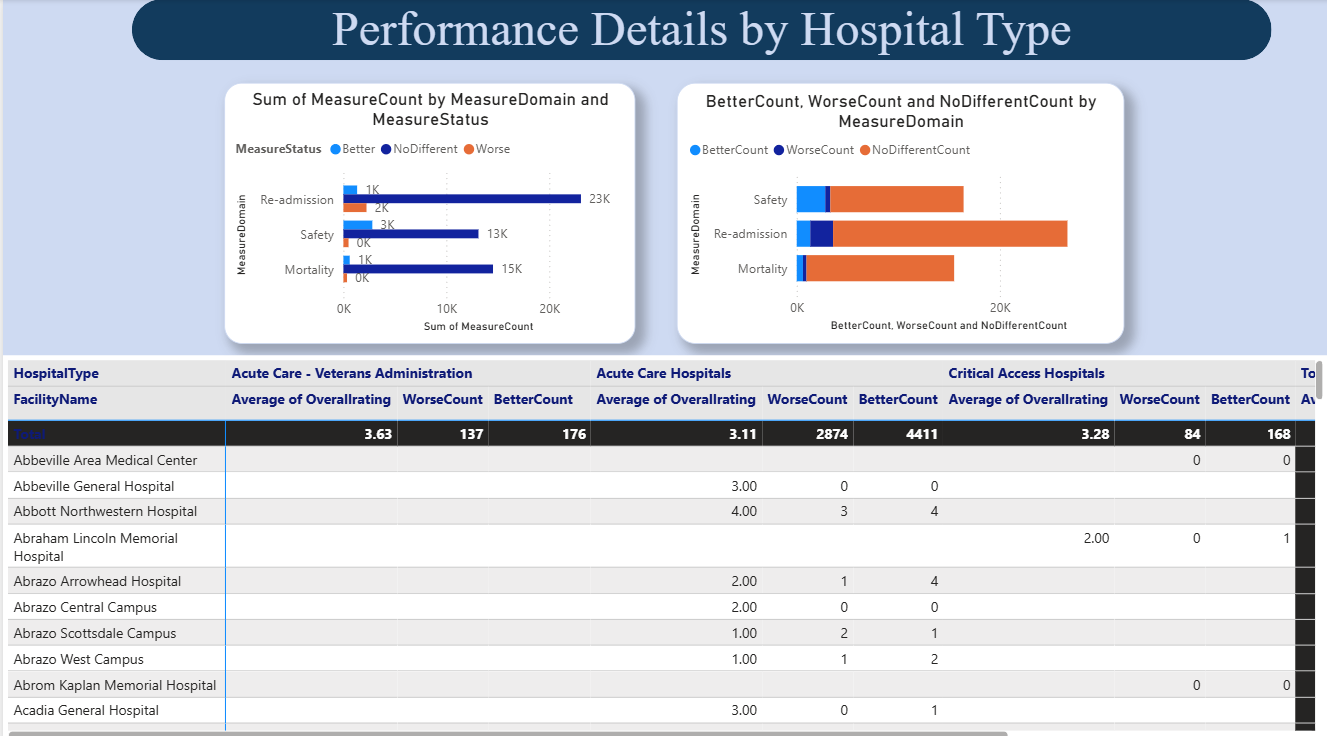

The page's visual inventory and layout, read from the dashboard file:
{"tool":"powerbi","page":{"name":"Performance Details","canvas":[1280,720],"ordinal":3},"visuals":[{"type":"clusteredBarChart","fields":{"Category":["FactPerformance.MeasureDomain"],"Y":["Sum(FactPerformance.MeasureCount)"],"Series":["FactPerformance.MeasureStatus"]},"box":[213.5,80.8,396.9,252.1],"z":0},{"type":"barChart","fields":{"Category":["FactPerformance.MeasureDomain"],"Y":["FactPerformance.BetterCount","FactPerformance.WorseCount","FactPerformance.NoDifferentCount"]},"box":[650.3,80.8,431.9,252.1],"z":1000},{"type":"pivotTable","fields":{"Rows":["Hospital.FacilityName"],"Columns":["Dim_HospitalType.HospitalType"],"Values":["Avg(Hospital.Overallrating)","FactPerformance.WorseCount","FactPerformance.BetterCount"]},"box":[0,343.8,1280,376.4],"z":2000},{"type":"shape","box":[124.3,0,1100.3,59.1],"z":3000}]}

Visuals, with their boxes in screenshot pixels (x1, y1, x2, y2), scaled from the page's 1280x720 canvas onto the 1327x736 screenshot:
clusteredBarChart - FactPerformance.MeasureDomain x Sum(FactPerformance.MeasureCount): {"x1": 221, "y1": 83, "x2": 633, "y2": 340}
barChart - FactPerformance.MeasureDomain x FactPerformance.BetterCount: {"x1": 674, "y1": 83, "x2": 1122, "y2": 340}
pivotTable - Hospital.FacilityName x Dim_HospitalType.HospitalType: {"x1": 0, "y1": 351, "x2": 1326, "y2": 735}
shape: {"x1": 129, "y1": 0, "x2": 1270, "y2": 60}
